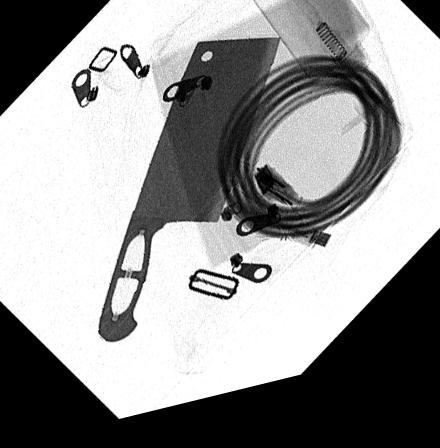Knife: (96, 49, 280, 349)
